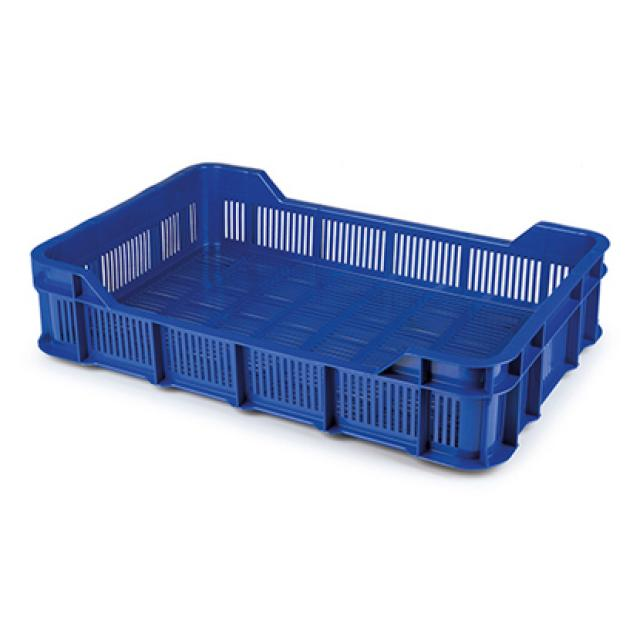basket: (7, 133, 620, 490)
